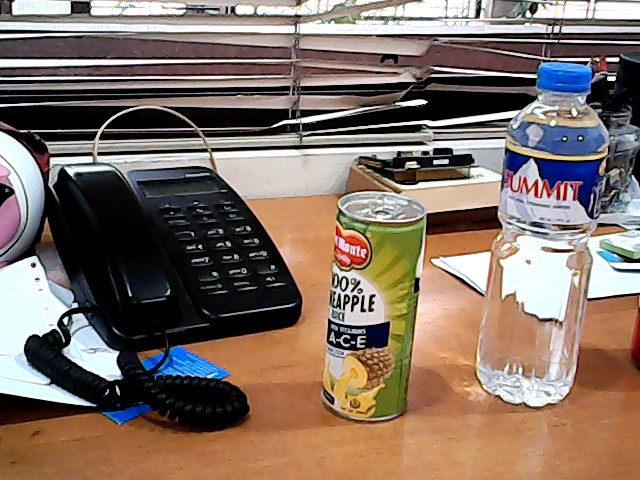Pine Juice: (306, 183, 449, 435)
Summit Water: (459, 51, 628, 432)
